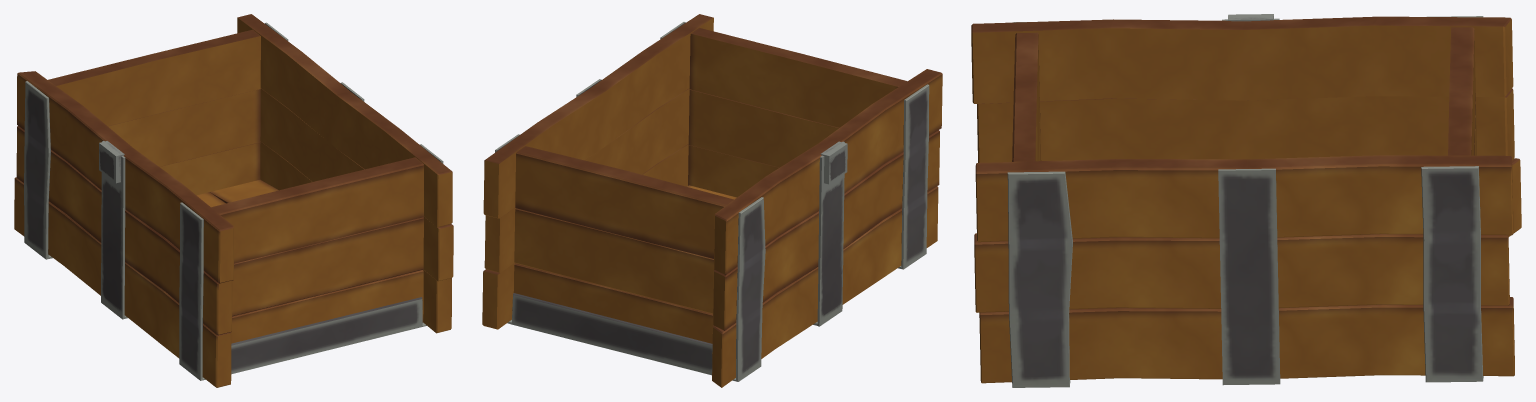
File: Chest_Lower_Part.fbx
The picture shows the model from 3 angles, left to right: view 1: azimuth 30°, elevation 25°; view 2: azimuth 150°, elevation 25°; view 3: azimuth 270°, elevation 25°; orthographic projection. The views are drawn at different scales.
Visible parts, largest first — view 1: Chest_Lower_Part; view 2: Chest_Lower_Part; view 3: Chest_Lower_Part.
Boxes of the visible parts, bbox=[...] form: Chest_Lower_Part: bbox=[14, 14, 453, 387]; Chest_Lower_Part: bbox=[482, 14, 942, 387]; Chest_Lower_Part: bbox=[971, 14, 1521, 387].
Bounding box in the file's own units: 48.42 × 32.05 × 70.96.
